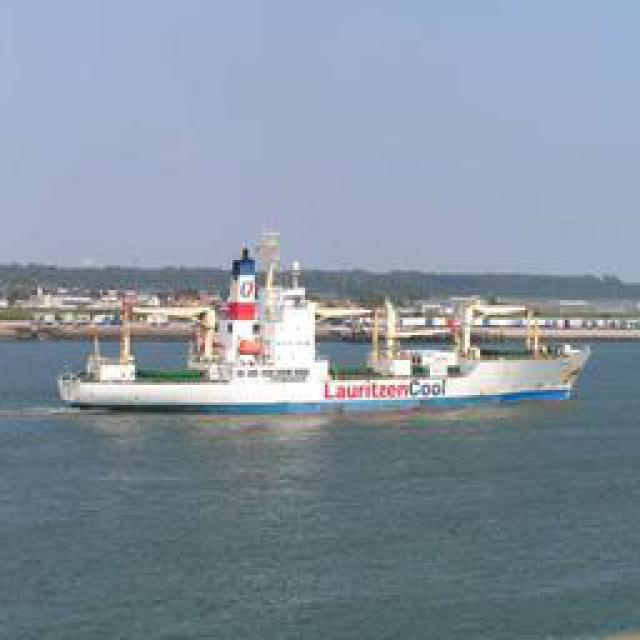Ship: (54, 274, 589, 414)
